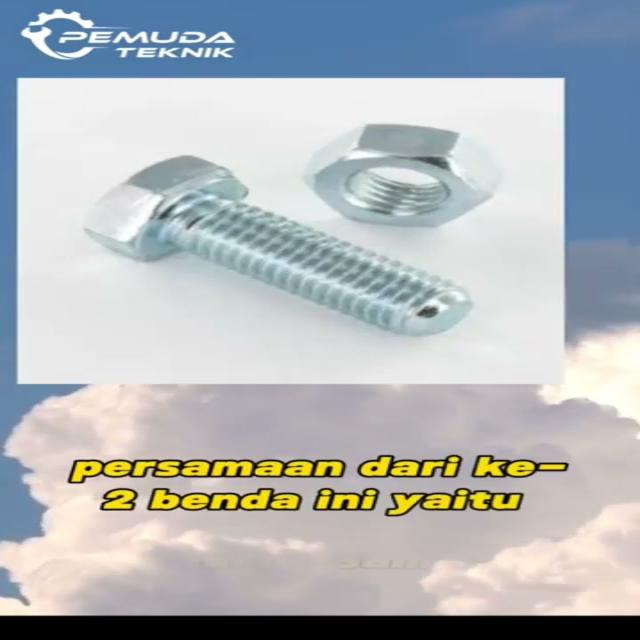Logam: (83, 97, 602, 406)
